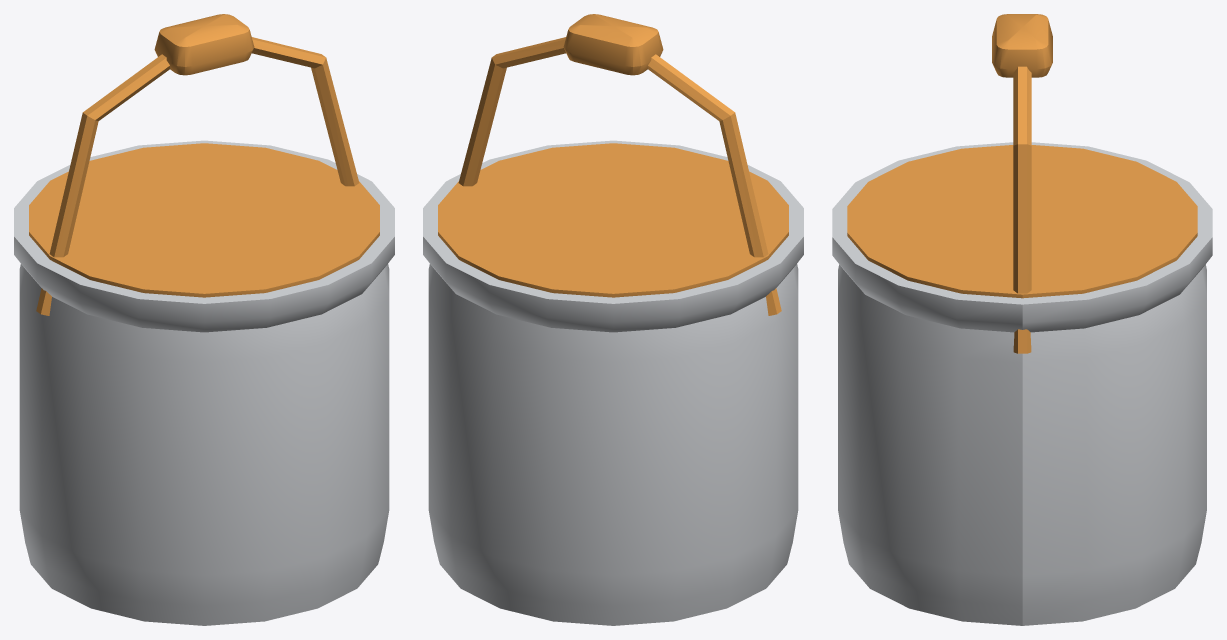
The picture shows the model from 3 angles, left to right: view 1: azimuth 30°, elevation 25°; view 2: azimuth 150°, elevation 25°; view 3: azimuth 270°, elevation 25°; orthographic projection.
Parts seen in each view (by area): view 1: paint-tin-2p5l; view 2: paint-tin-2p5l; view 3: paint-tin-2p5l.
Boxes of the visible parts, x1,y1,x2,y2 form: paint-tin-2p5l: (14, 14, 394, 625); paint-tin-2p5l: (423, 14, 803, 625); paint-tin-2p5l: (832, 14, 1212, 625).
Bounding box in the file's own units: 0.1895 × 0.284 × 0.1867.
